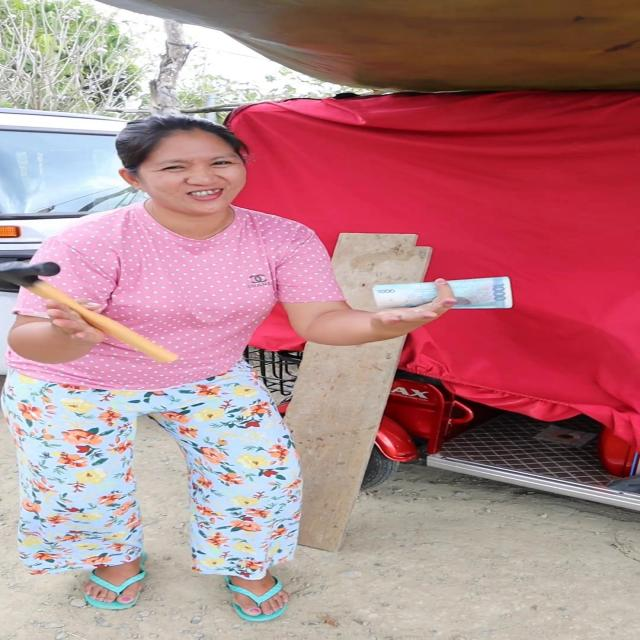hammer: (3, 258, 187, 368)
